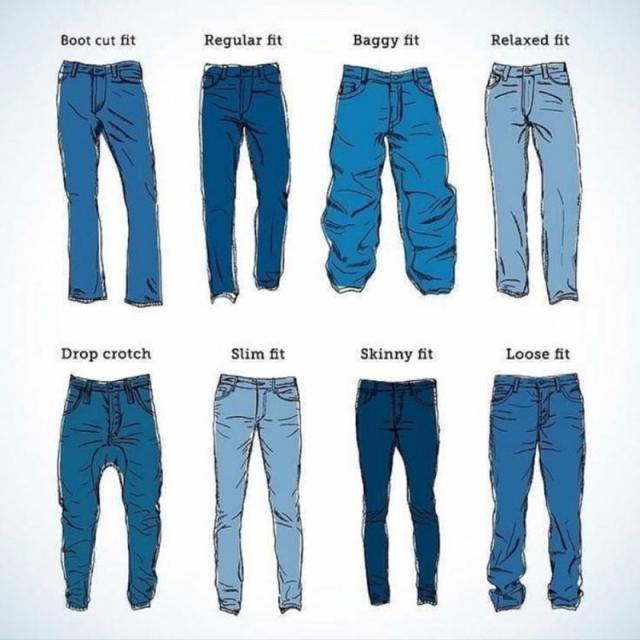pants: (324, 58, 461, 301), (51, 53, 167, 313), (50, 372, 167, 612), (478, 56, 588, 309), (482, 367, 593, 615), (203, 369, 313, 618), (195, 56, 292, 308), (347, 375, 448, 610)
